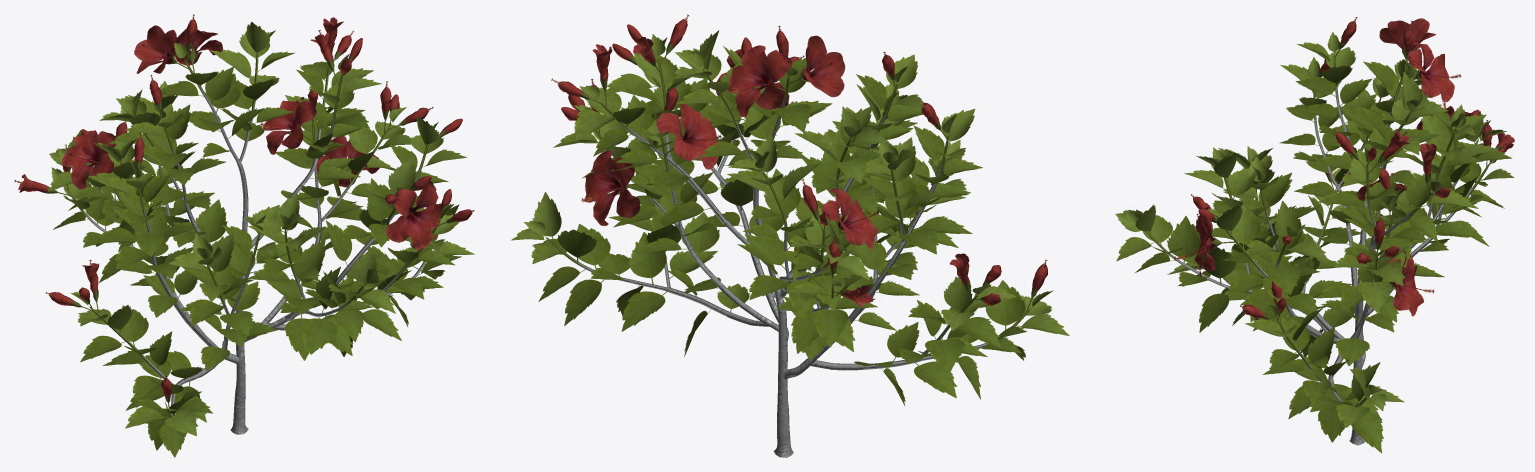
Rendered from hibiscus.glb.
The picture shows the model from 3 angles, left to right: view 1: azimuth 30°, elevation 25°; view 2: azimuth 150°, elevation 25°; view 3: azimuth 270°, elevation 25°; orthographic projection. The views are drawn at different scales.
Visible parts, largest first — view 1: Hibiscus_rosa_sinensis_HD; view 2: Hibiscus_rosa_sinensis_HD; view 3: Hibiscus_rosa_sinensis_HD.
Boxes of the visible parts, box(x1,y1,x2,y2) form: Hibiscus_rosa_sinensis_HD: box(14, 14, 474, 457); Hibiscus_rosa_sinensis_HD: box(511, 14, 1069, 457); Hibiscus_rosa_sinensis_HD: box(1115, 17, 1514, 453).
Size of the model in its own units: 1.13 by 1.01 by 0.9363.
12 materials, 12 textured.
